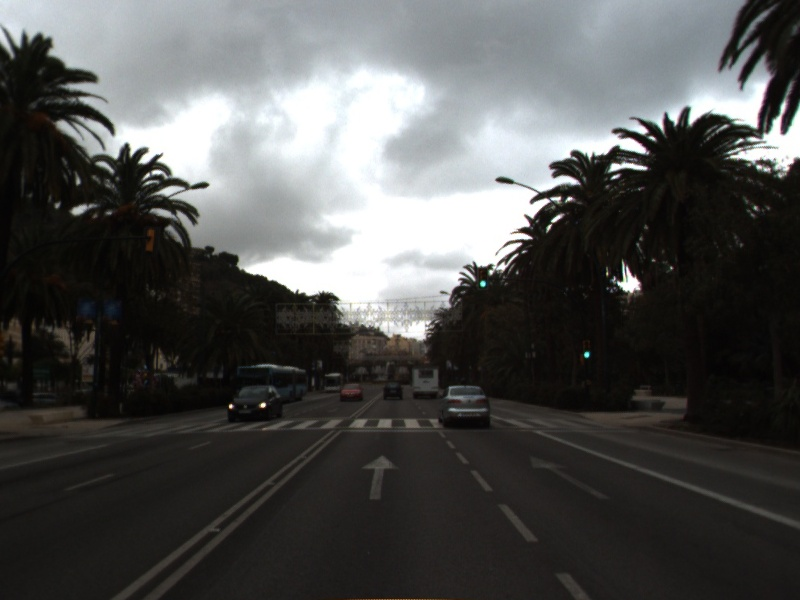STRAIGHT: (527, 453, 612, 502), (359, 453, 402, 501)
